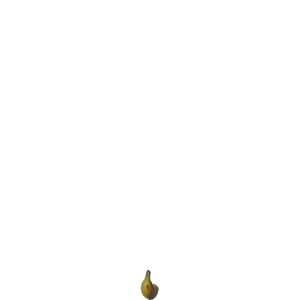banana: (138, 265, 160, 298)
